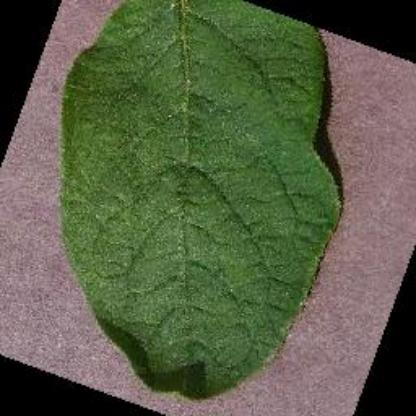Healthy-plant: (53, 0, 353, 398)
